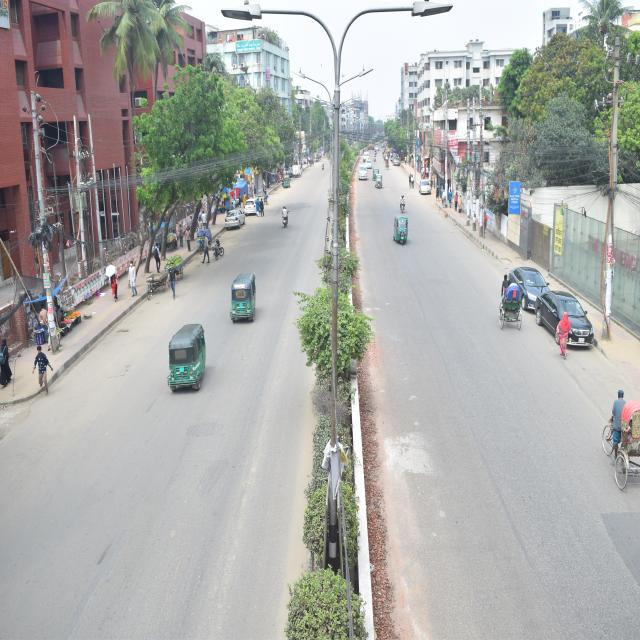car: (490, 234, 558, 328), (532, 279, 599, 364), (238, 188, 269, 231), (223, 195, 249, 240), (414, 171, 442, 211), (292, 160, 310, 179), (360, 149, 375, 171), (354, 157, 366, 184)
motorbike: (205, 210, 226, 273), (392, 177, 413, 220), (280, 194, 294, 242), (316, 157, 330, 175)
